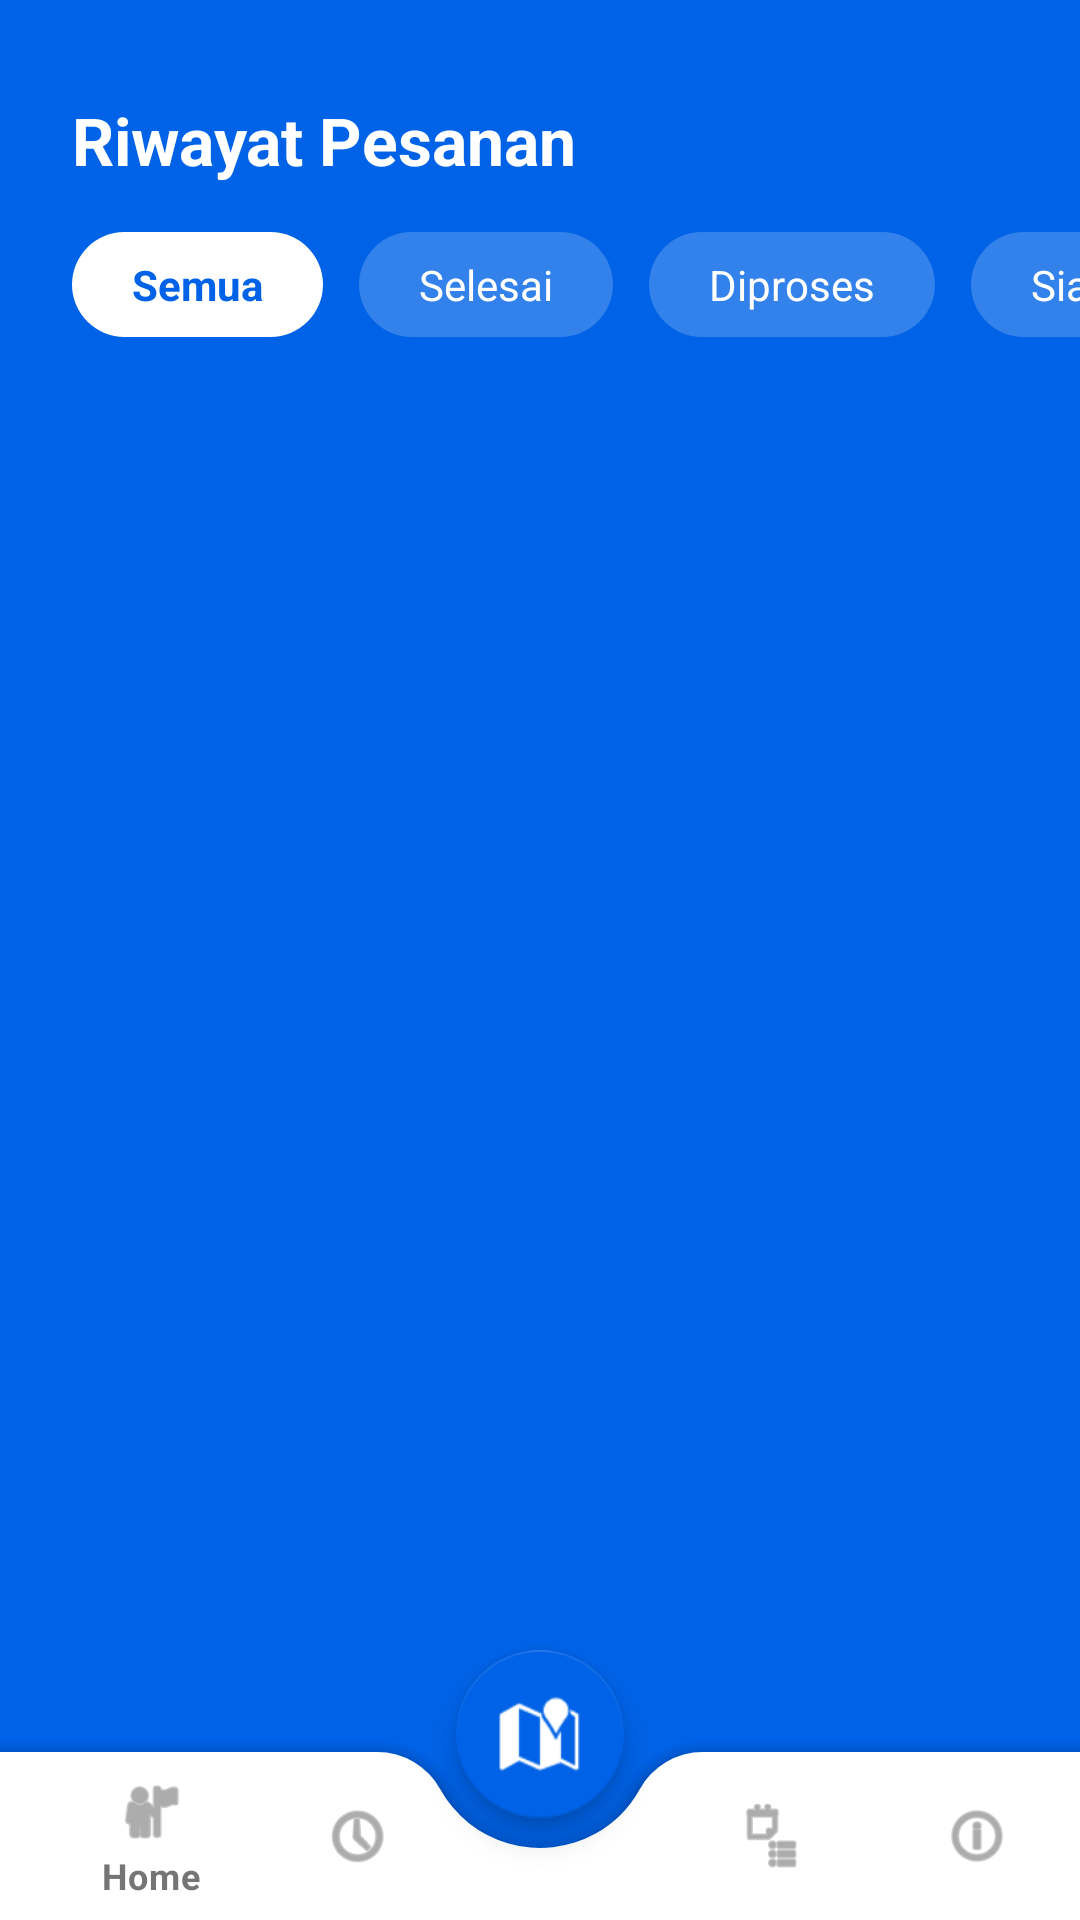

Named icons in this screenshot (1080*1920) and their centers, point (x, y):
Cari Lokasi: point (540, 1765)
